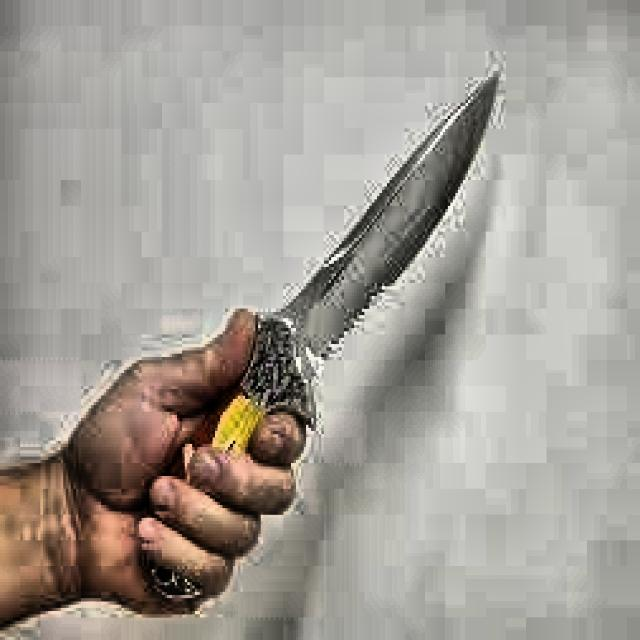knife: (150, 74, 497, 602)
